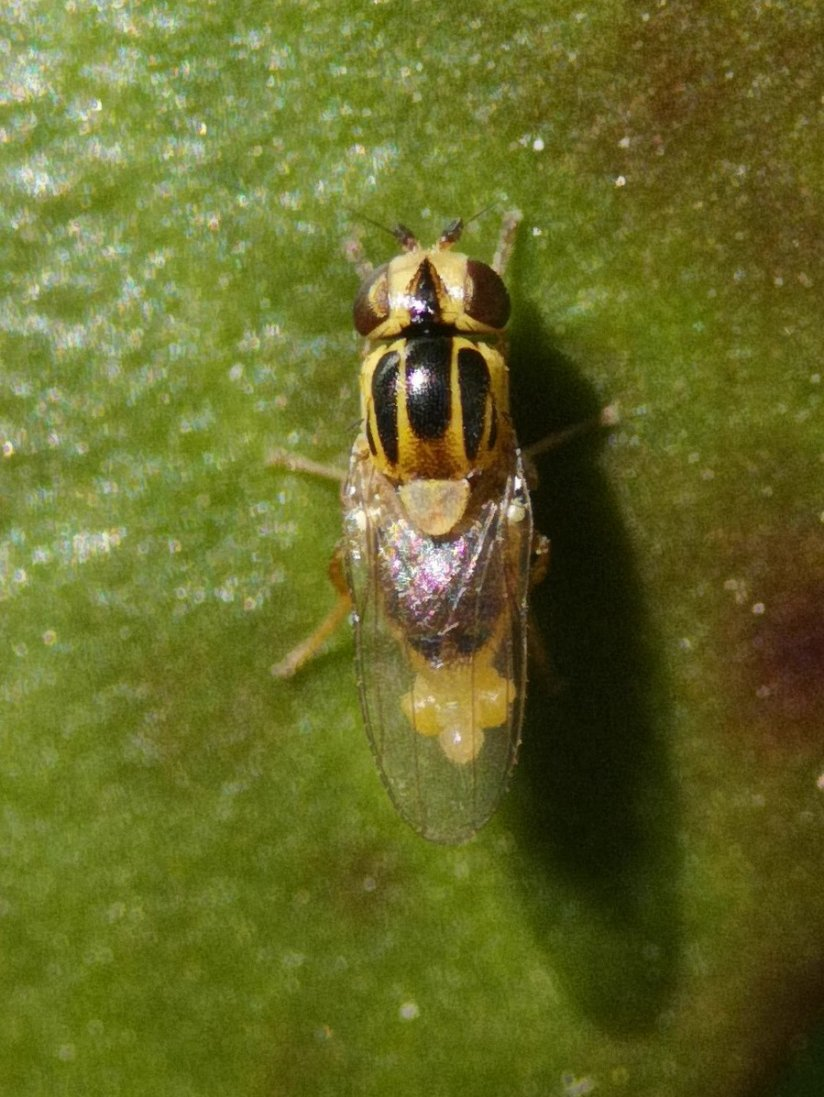Chloropidae: (255, 202, 624, 832)
